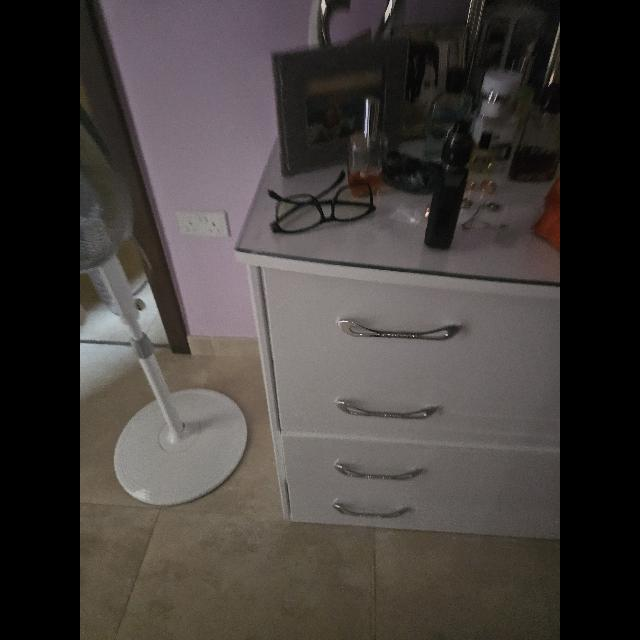glasses: (268, 170, 376, 233)
